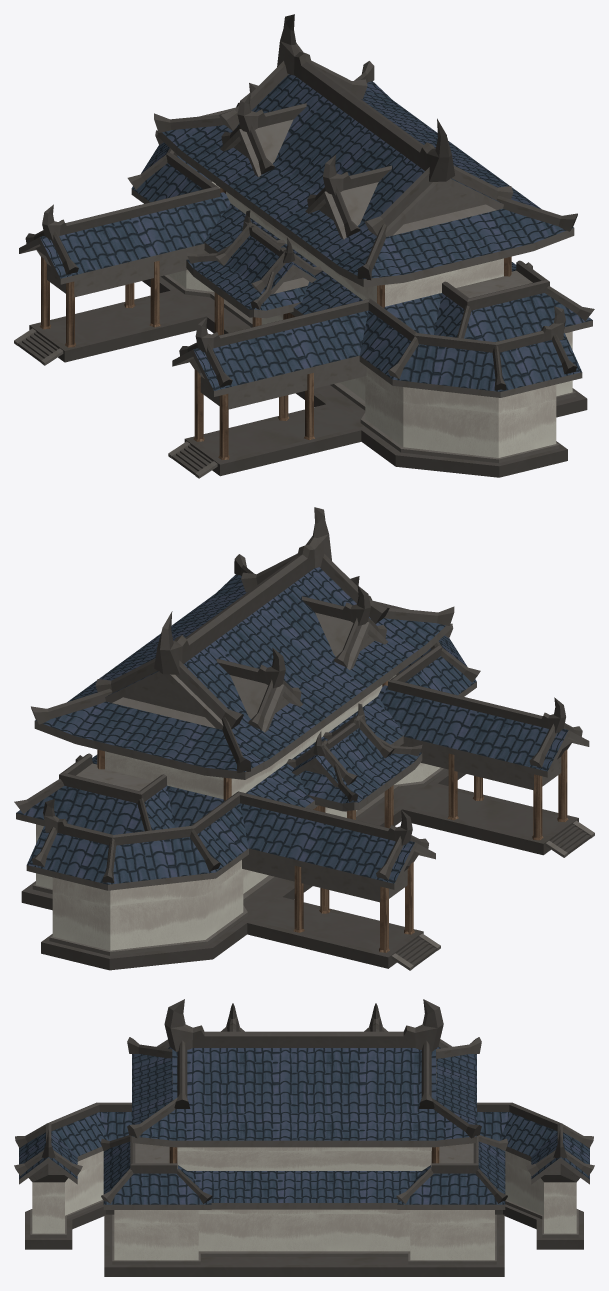
The model's file is ShuYuan01.fbx.
The picture shows the model from 3 angles, top to bottom: view 1: azimuth 30°, elevation 25°; view 2: azimuth 150°, elevation 25°; view 3: azimuth 270°, elevation 25°; orthographic projection. The views are drawn at different scales.
Visible parts, largest first — view 1: 4_ShuYuan01; view 2: 4_ShuYuan01; view 3: 4_ShuYuan01.
Part boxes in pixels (x1,y1,x2,y2): 4_ShuYuan01: [14, 14, 594, 478]; 4_ShuYuan01: [14, 507, 594, 970]; 4_ShuYuan01: [14, 999, 594, 1276].
Bounding box in the file's own units: 589 × 428 × 955.
